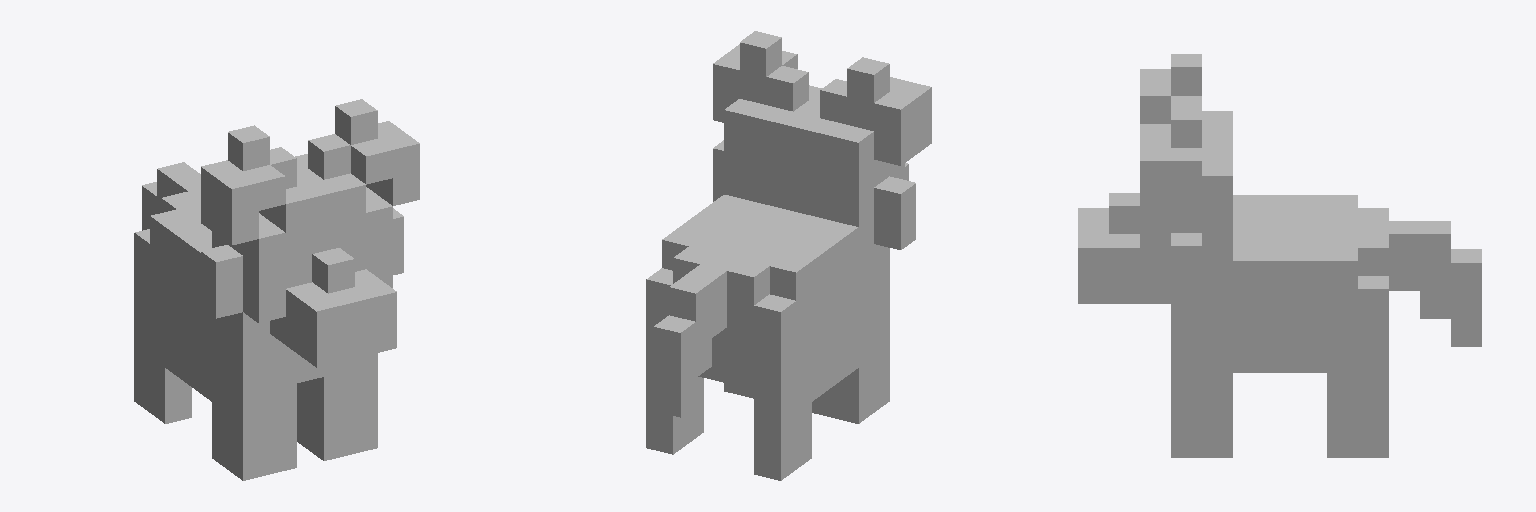
File: dog.obj
The picture shows the model from 3 angles: view 1: azimuth 30°, elevation 25°; view 2: azimuth 150°, elevation 25°; view 3: azimuth 270°, elevation 25°; orthographic projection.
Parts seen in each view (by area): view 1: object 1; view 2: object 1; view 3: object 1.
Part boxes in pixels (x1,y1,x2,y2): object 1: (134, 99, 419, 480); object 1: (646, 31, 931, 480); object 1: (1078, 54, 1481, 457).
Size of the model in its own units: 0.7 by 1.2 by 1.3.